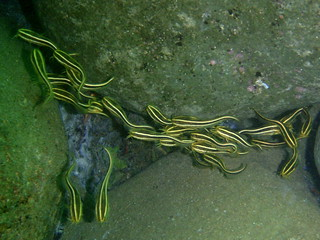gonzui: (91, 143, 119, 224)
